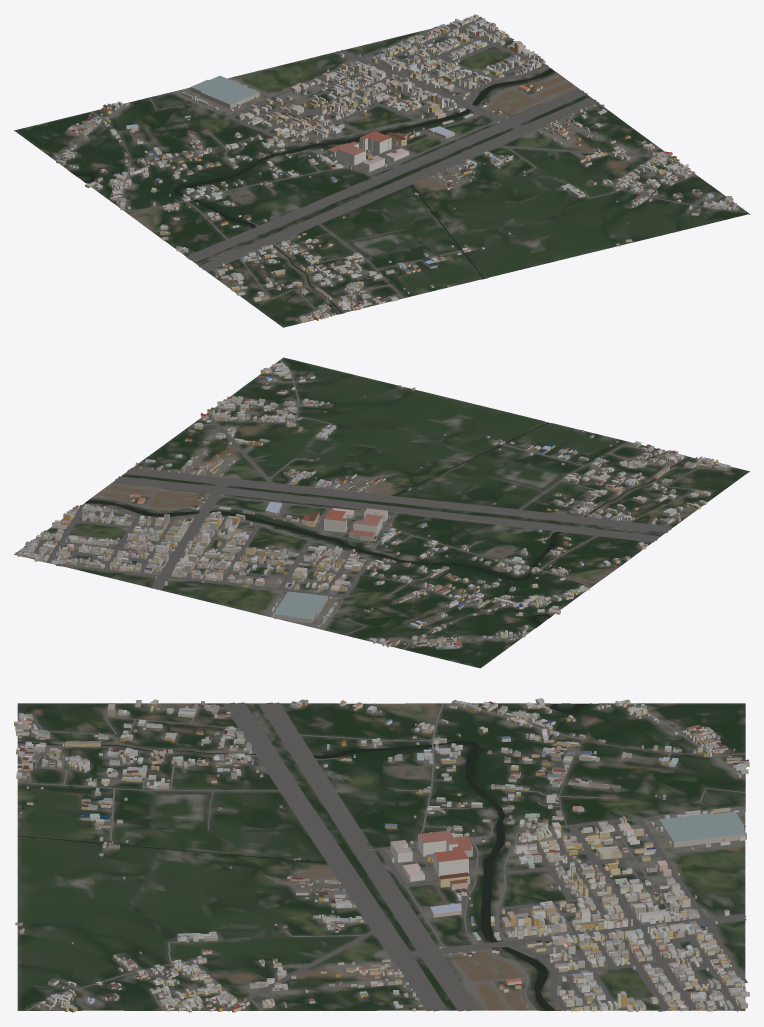
3 views of the same model, one above another, from view 1: azimuth 30°, elevation 25°; view 2: azimuth 150°, elevation 25°; view 3: azimuth 270°, elevation 25° (orthographic). The views are drawn at different scales.
Parts seen in each view (by area): view 1: ground, buildings, roads, water; view 2: ground, buildings, roads, water; view 3: ground, buildings, roads, water.
Part boxes in pixels (<box>): ground: <box>14,16,749,327</box>; buildings: <box>54,14,737,322</box>; roads: <box>55,18,746,323</box>; water: <box>71,68,553,313</box>; ground: <box>14,357,749,668</box>; buildings: <box>17,362,730,648</box>; roads: <box>15,360,731,649</box>; water: <box>85,422,690,626</box>; ground: <box>17,703,745,1010</box>; buildings: <box>14,698,749,1012</box>; roads: <box>17,702,747,1011</box>; water: <box>17,703,591,1010</box>.
Bounding box in the file's own units: 1421 × 36.97 × 1416.
